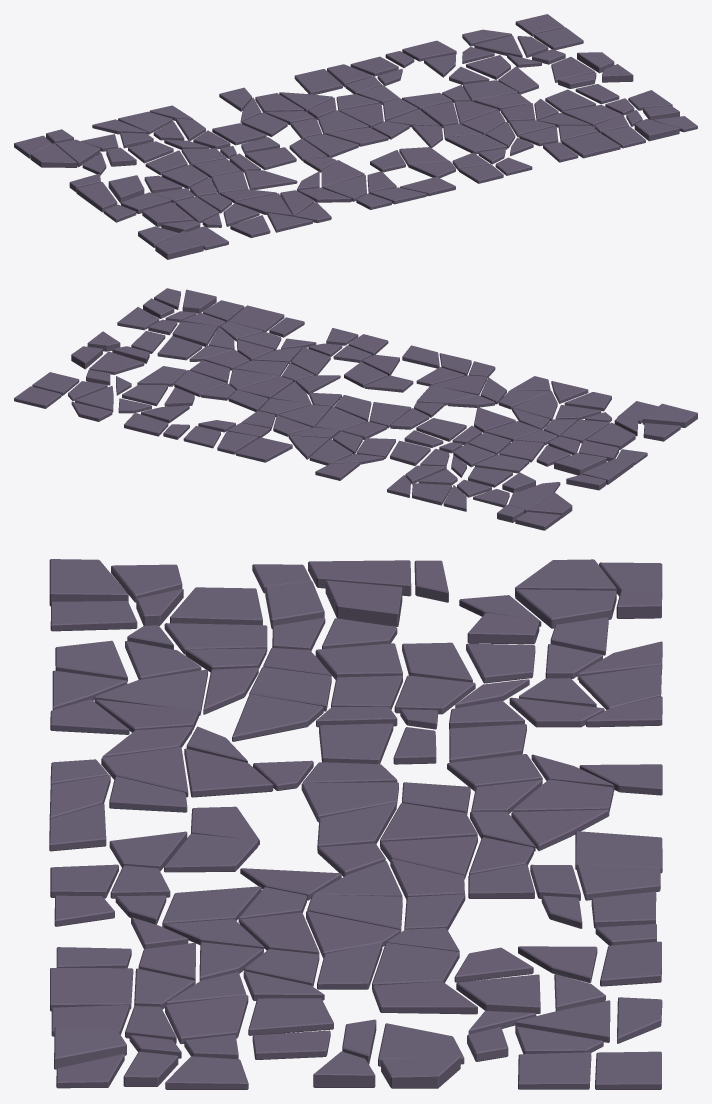
The model's file is Floor2_Stone.fbx.
3 views of the same model, one above another, from view 1: azimuth 30°, elevation 25°; view 2: azimuth 150°, elevation 25°; view 3: azimuth 270°, elevation 25° (orthographic). The views are drawn at different scales.
Parts seen in each view (by area): view 1: Slab1_0_0.001; view 2: Slab1_0_0.001; view 3: Slab1_0_0.001.
Part boxes in pixels (x1,y1,x2,y2): Slab1_0_0.001: [14, 14, 697, 259]; Slab1_0_0.001: [14, 288, 697, 530]; Slab1_0_0.001: [49, 559, 662, 1089].
Bounding box in the file's own units: 14956 × 196 × 7470.
